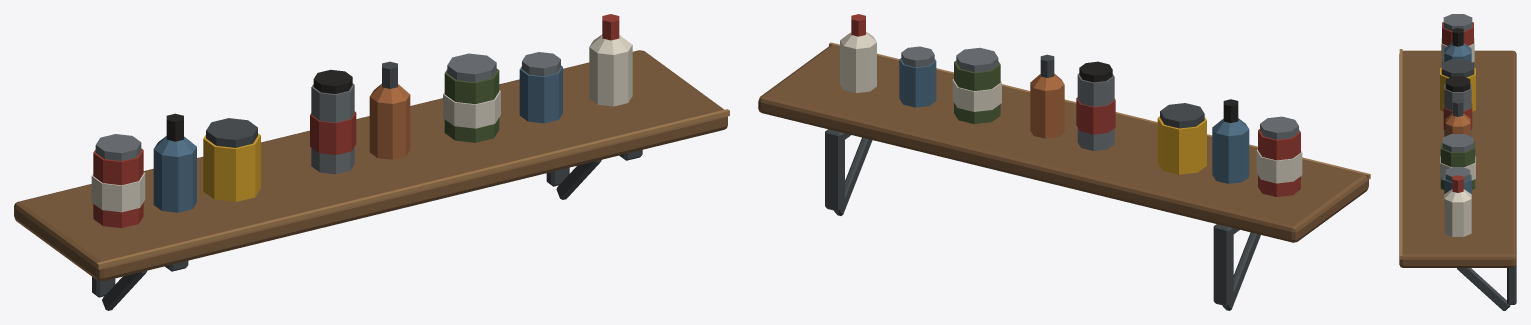
Rendered from shelf_wood_derevyannaya_metal_ugolok_idle.glb.
The picture shows the model from 3 angles, left to right: view 1: azimuth 30°, elevation 25°; view 2: azimuth 150°, elevation 25°; view 3: azimuth 270°, elevation 25°; orthographic projection. The views are drawn at different scales.
Parts seen in each view (by area): view 1: shelf_wood_derevyannaya_metal_ugolok_idle; view 2: shelf_wood_derevyannaya_metal_ugolok_idle; view 3: shelf_wood_derevyannaya_metal_ugolok_idle.
Part boxes in pixels (<box>): shelf_wood_derevyannaya_metal_ugolok_idle: <box>14,14,729,310</box>; shelf_wood_derevyannaya_metal_ugolok_idle: <box>758,14,1370,310</box>; shelf_wood_derevyannaya_metal_ugolok_idle: <box>1399,14,1516,310</box>.
Size of the model in its own units: 1 by 0.3194 by 0.24.
Materials: 1 (1 with a texture image).
